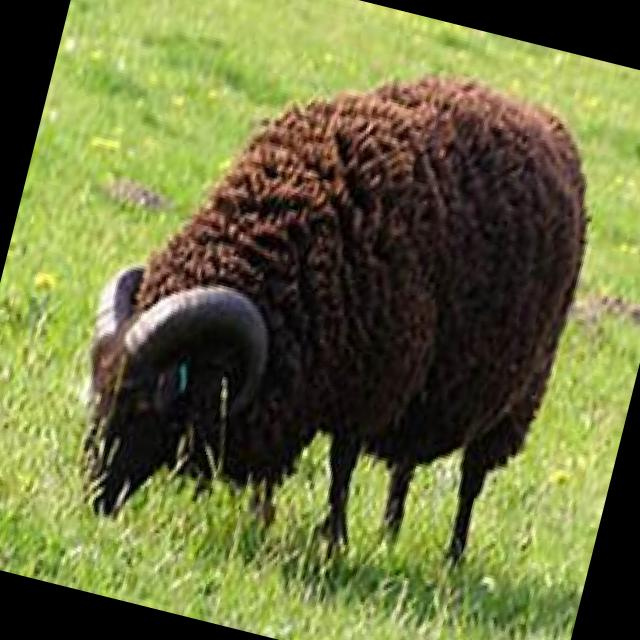animal: (54, 11, 616, 608)
